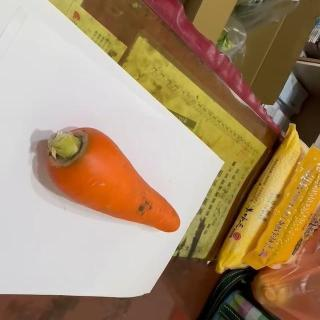carrot: (45, 128, 182, 233)
